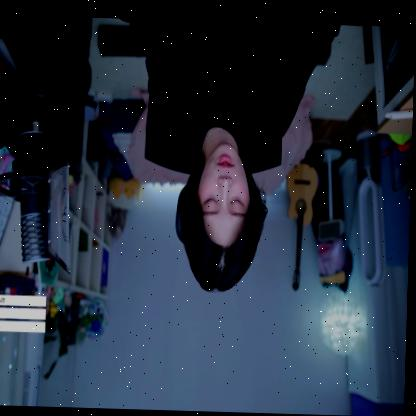streamer: (138, 14, 339, 291)
